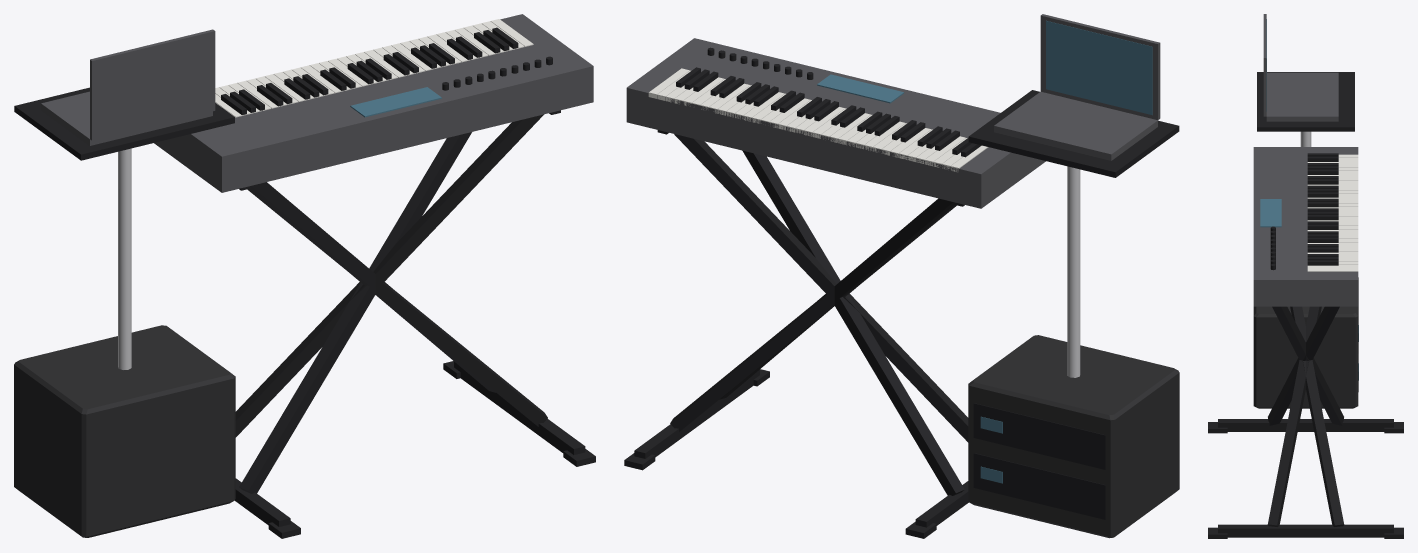
Rendered from synth-61.glb.
The picture shows the model from 3 angles, left to right: view 1: azimuth 30°, elevation 25°; view 2: azimuth 150°, elevation 25°; view 3: azimuth 270°, elevation 25°; orthographic projection. The views are drawn at different scales.
Parts seen in each view (by area): view 1: panel, cabinet, frame, keys, metal, screen; view 2: frame, panel, cabinet, screen, keys, metal; view 3: frame, panel, cabinet, keys, screen.
Part boxes in pixels (left/top/right/bottom): panel: left=41, top=14, right=593, bottom=192; cabinet: left=14, top=325, right=235, bottom=537; frame: left=14, top=27, right=595, bottom=538; keys: left=215, top=19, right=533, bottom=117; metal: left=118, top=148, right=131, bottom=369; screen: left=350, top=87, right=441, bottom=117; frame: left=624, top=47, right=1179, bottom=538; panel: left=626, top=14, right=1160, bottom=208; cabinet: left=968, top=335, right=1179, bottom=538; screen: left=817, top=20, right=1152, bottom=483; keys: left=648, top=68, right=988, bottom=172; metal: left=1067, top=166, right=1080, bottom=377; frame: left=1208, top=72, right=1403, bottom=538; panel: left=1253, top=14, right=1358, bottom=306; cabinet: left=1253, top=306, right=1358, bottom=408; keys: left=1307, top=154, right=1358, bottom=271; screen: left=1260, top=19, right=1358, bottom=380.
Size of the model in its own units: 1.33 by 1.21 by 0.6.
